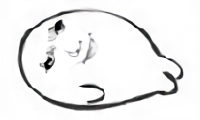dragon: (42, 20, 96, 74)
